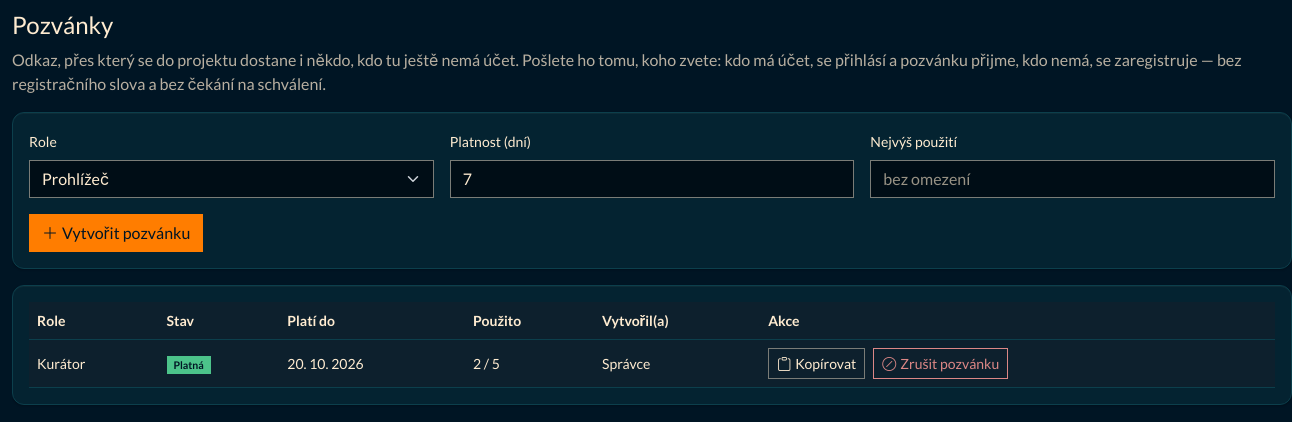
Test: InvitesSection › copies a listed invite’s absolute address later
Click the button "Kopírovat": (817, 363) [768,348,865,379]
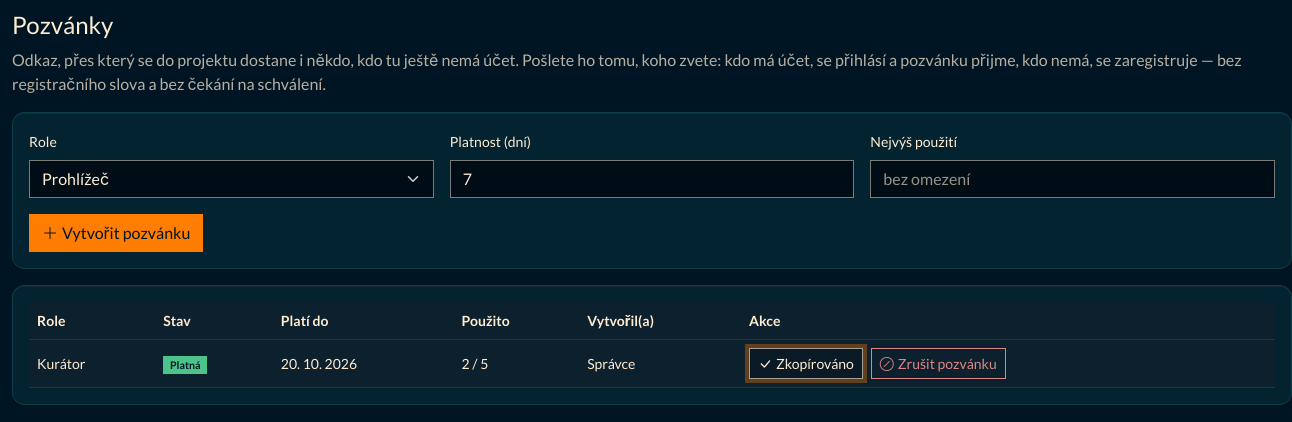
Check: the button "Zkopírováno" is shown, box [749,348,863,379]
